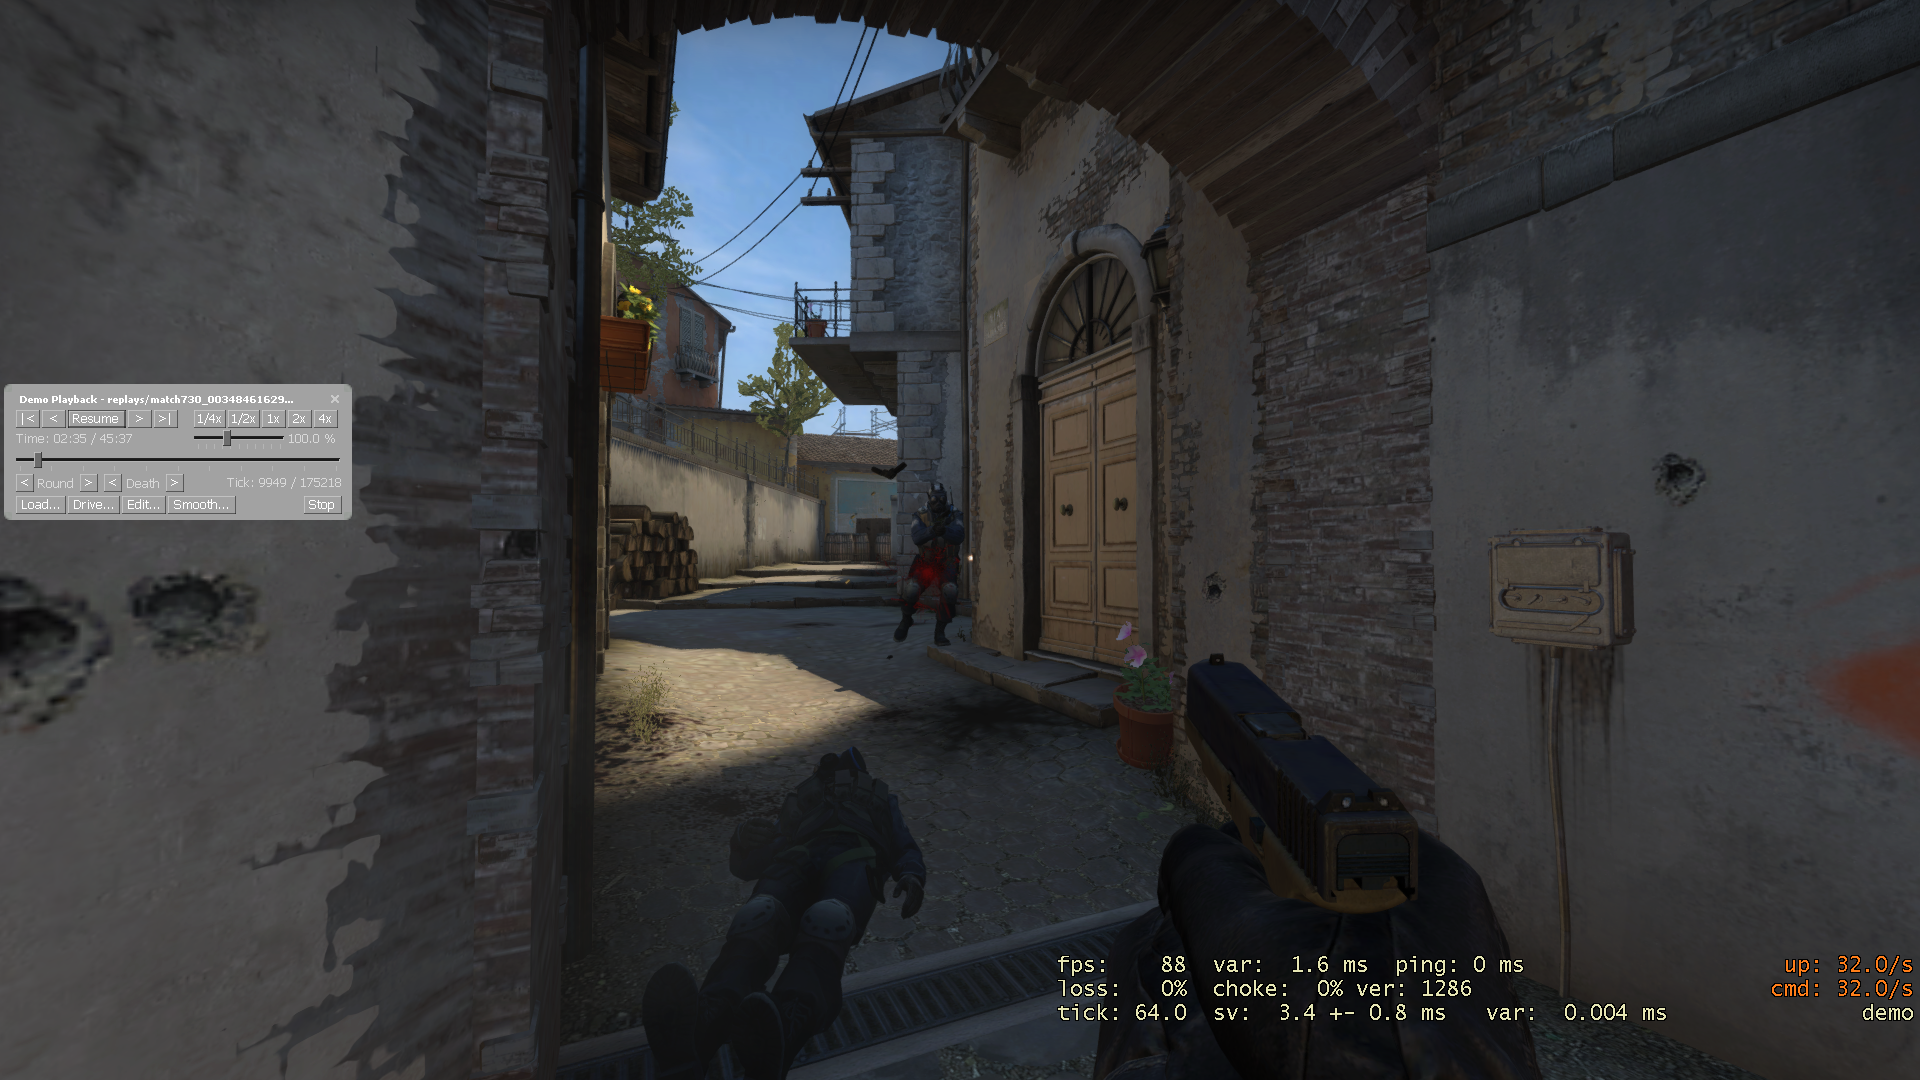ct: (891, 481, 964, 649)
